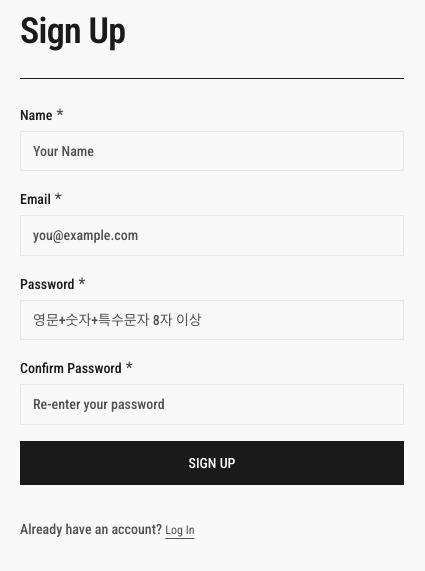
Test: RegisterForm › shows password validation error for weak password
The image size is (425, 571).
In the field labelled "Name": [212, 151] box 20,131 -> 404,171, type "홍길동"
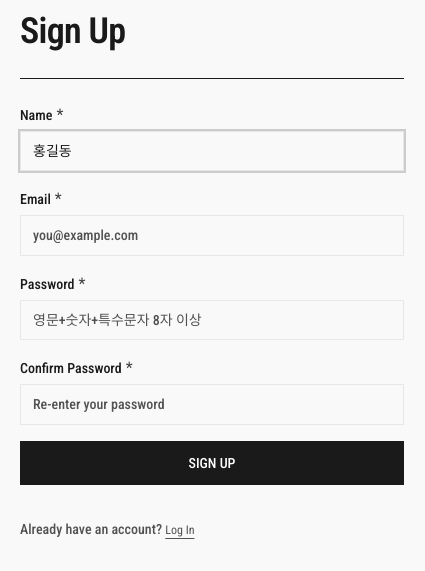
In the field labelled "Email": [212, 236] box 20,215 -> 404,256, type "test@example.com"
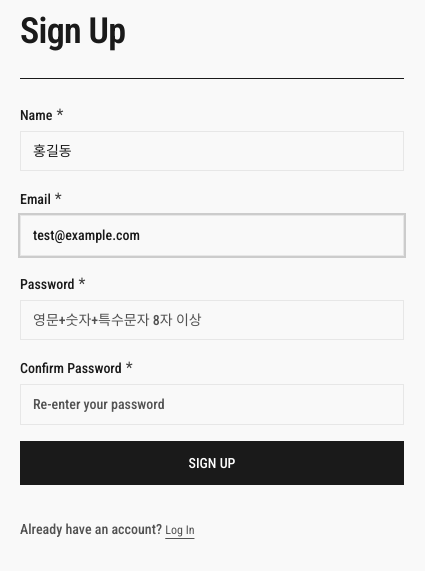
In the password field labelled "Password": [212, 320] box 20,300 -> 404,340, type "short"
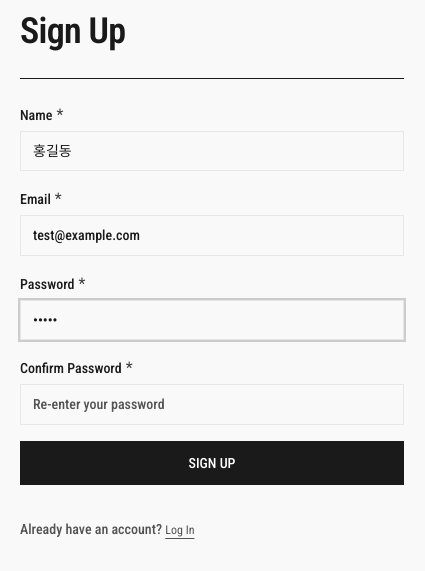
In the password field labelled "Confirm Password": [212, 404] box 20,384 -> 404,425, type "short"
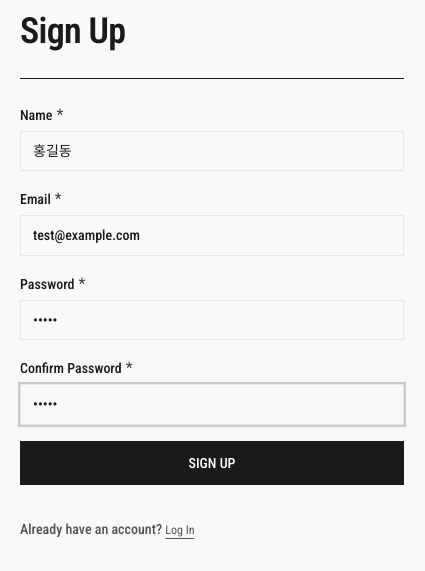
Click the button "Sign Up": [212, 463] box 20,441 -> 404,485
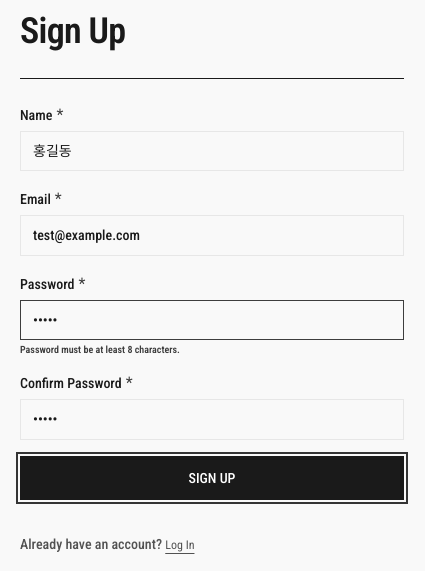
Expected: the text "Password must be at least 8 characters." is shown, 20,344 -> 180,355
